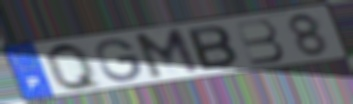8: (286, 12, 333, 58)
B: (232, 17, 288, 67), (185, 24, 241, 73)
G: (93, 37, 144, 84)
M: (130, 26, 203, 82)
Q: (44, 41, 107, 92)
